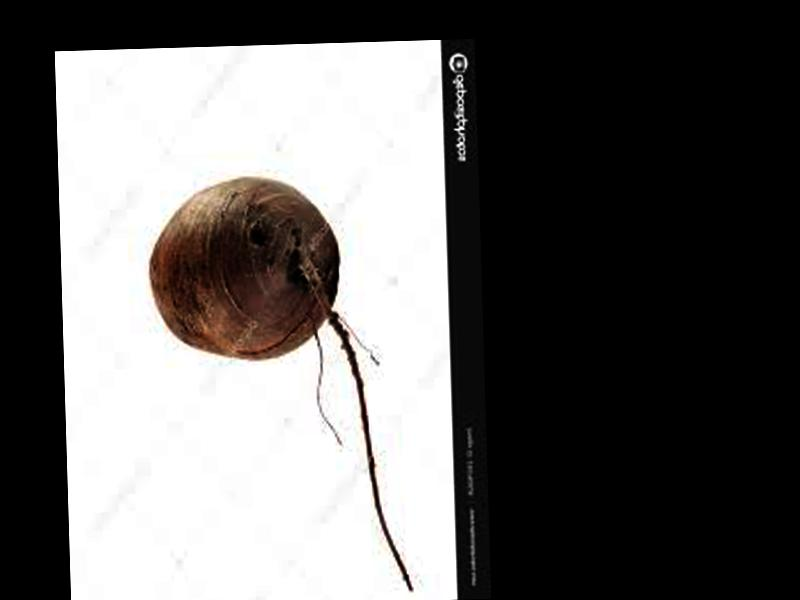Beet: (149, 174, 413, 599)
